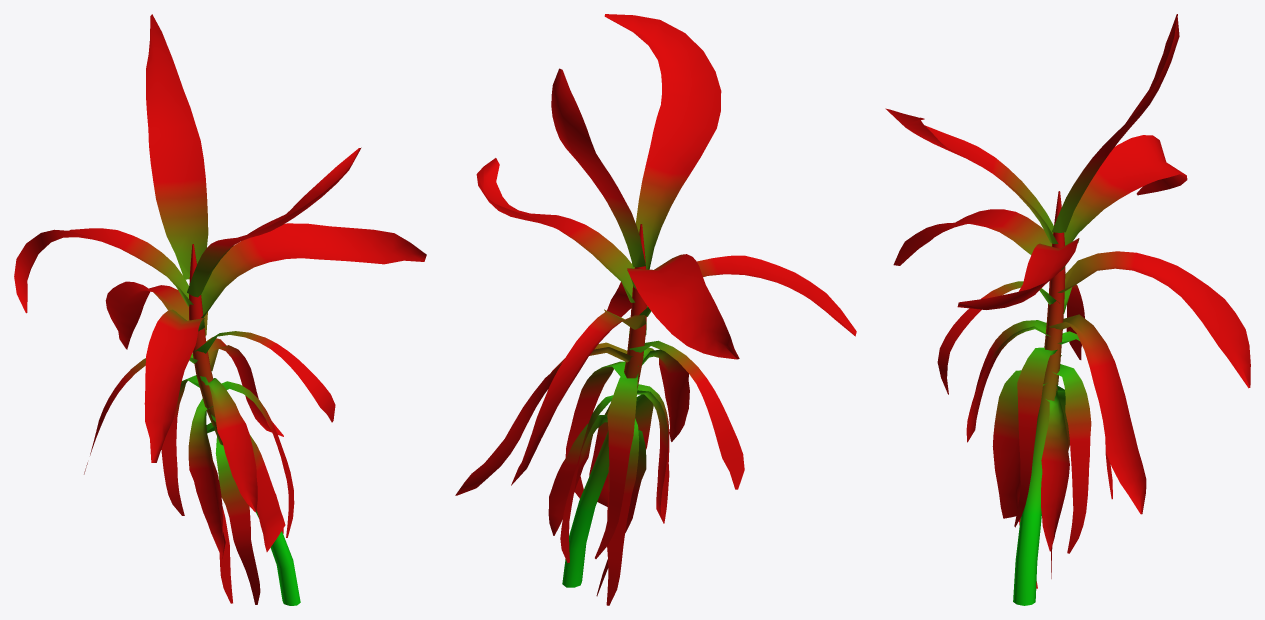
Rendered from Dragon Tree_LOD0_Var4_sikoN.fbx.
3 renders of one model, left to right at view 1: azimuth 30°, elevation 25°; view 2: azimuth 150°, elevation 25°; view 3: azimuth 270°, elevation 25°, orthographic. The views are drawn at different scales.
Visible parts, largest first — view 1: _d0d0_Var4_LOD0; view 2: _d0d0_Var4_LOD0; view 3: _d0d0_Var4_LOD0.
Part boxes in pixels (box(x1,y1,x2,y2)): _d0d0_Var4_LOD0: box(14, 14, 426, 605); _d0d0_Var4_LOD0: box(455, 14, 856, 605); _d0d0_Var4_LOD0: box(885, 14, 1250, 605).
Bounding box in the file's own units: 35.5 × 58.96 × 35.06.
